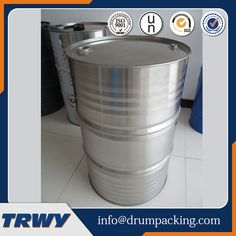metal: (61, 29, 198, 208), (44, 18, 126, 128)
